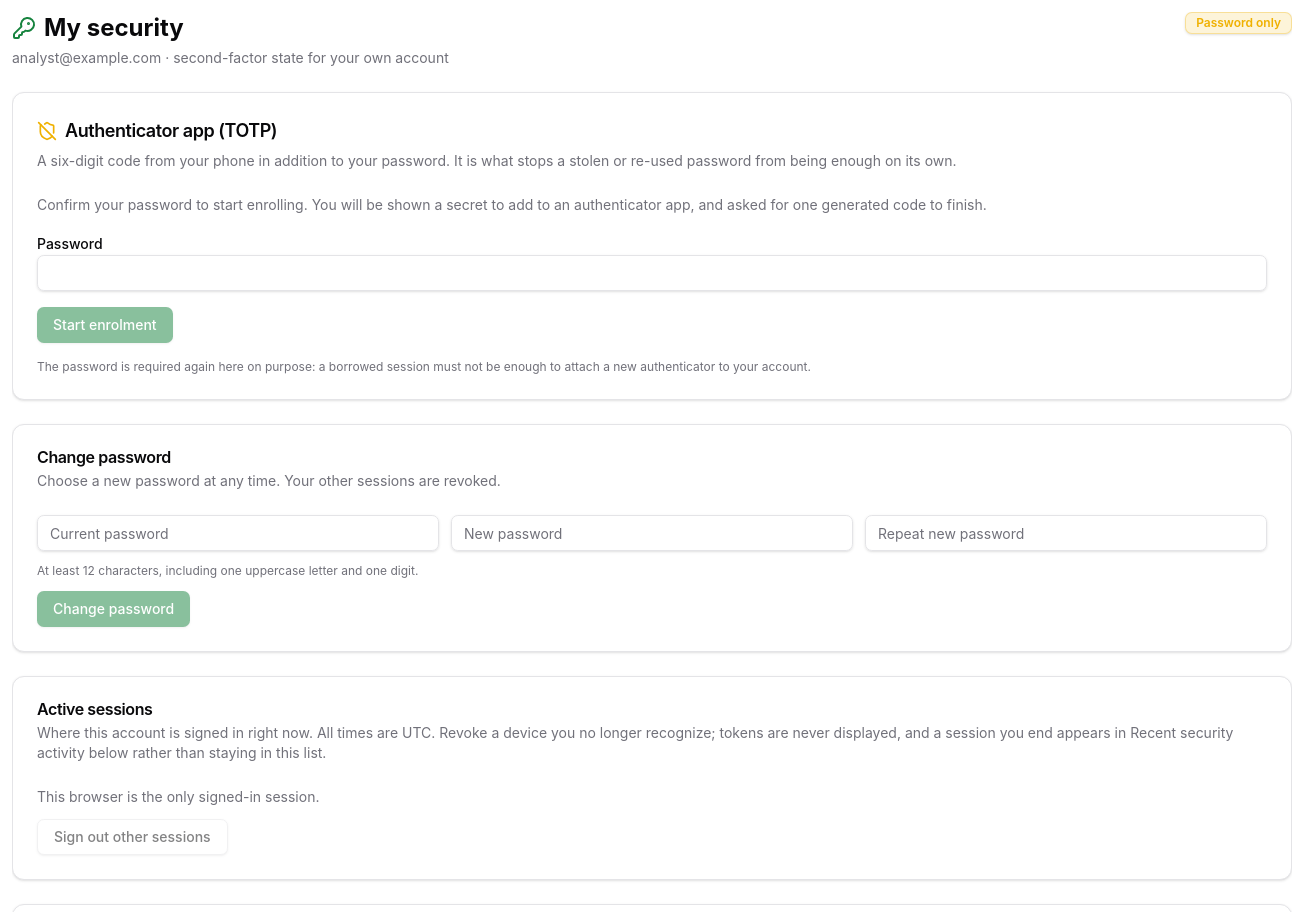
Test: SecurityPage › shows the account as password-only and starts enrolment after the password
expect the text "Password only" is shown: met, box left=1185, top=12, right=1291, bottom=34
expect the button "Start enrolment" is disabled: met, box left=37, top=307, right=173, bottom=343
Type "Password123!" into the password field labelled "Password". click: point(652, 273)
box: left=37, top=255, right=1267, bottom=291
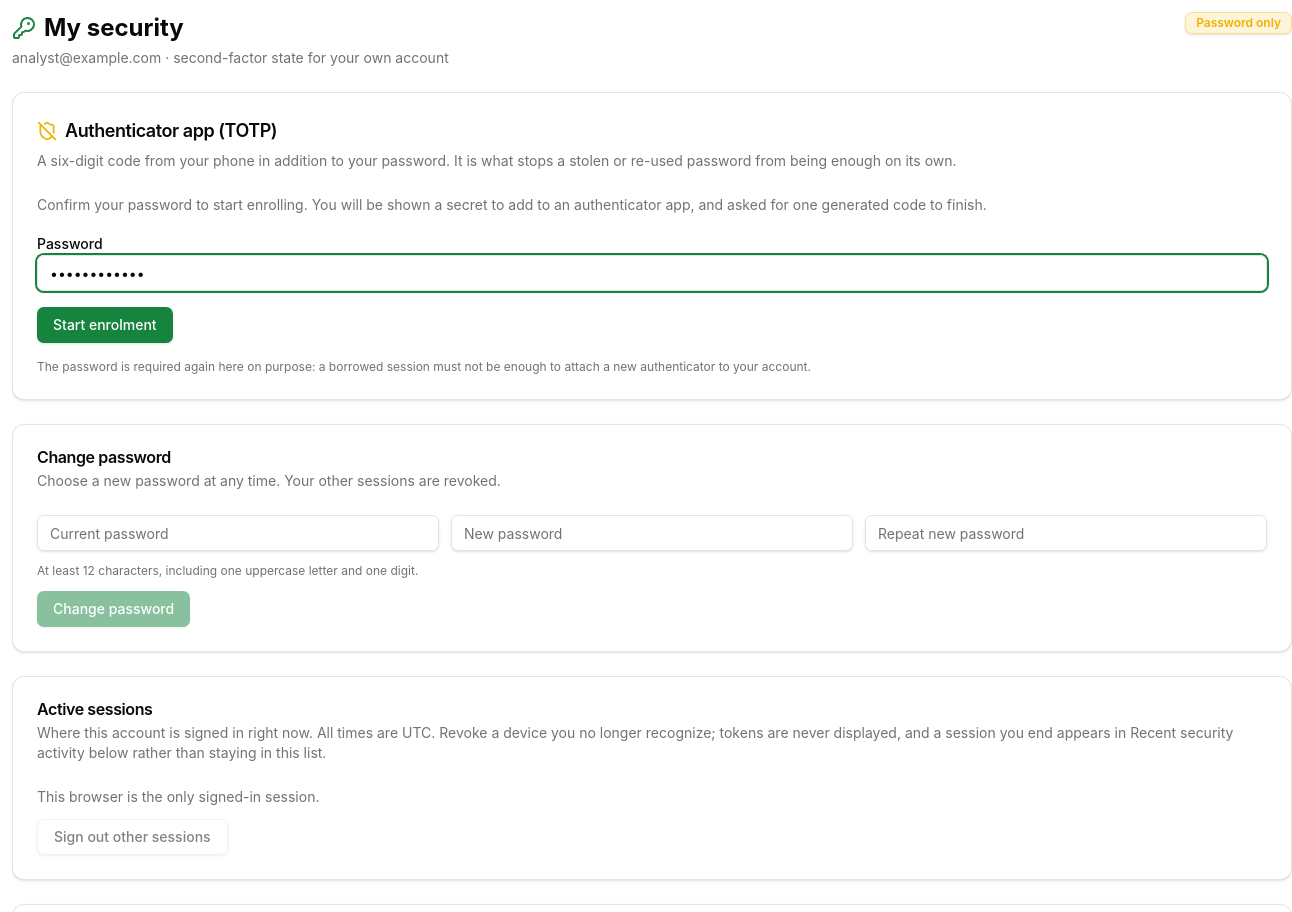
Click the button "Start enrolment". click: point(105, 325)
box: left=37, top=307, right=173, bottom=343
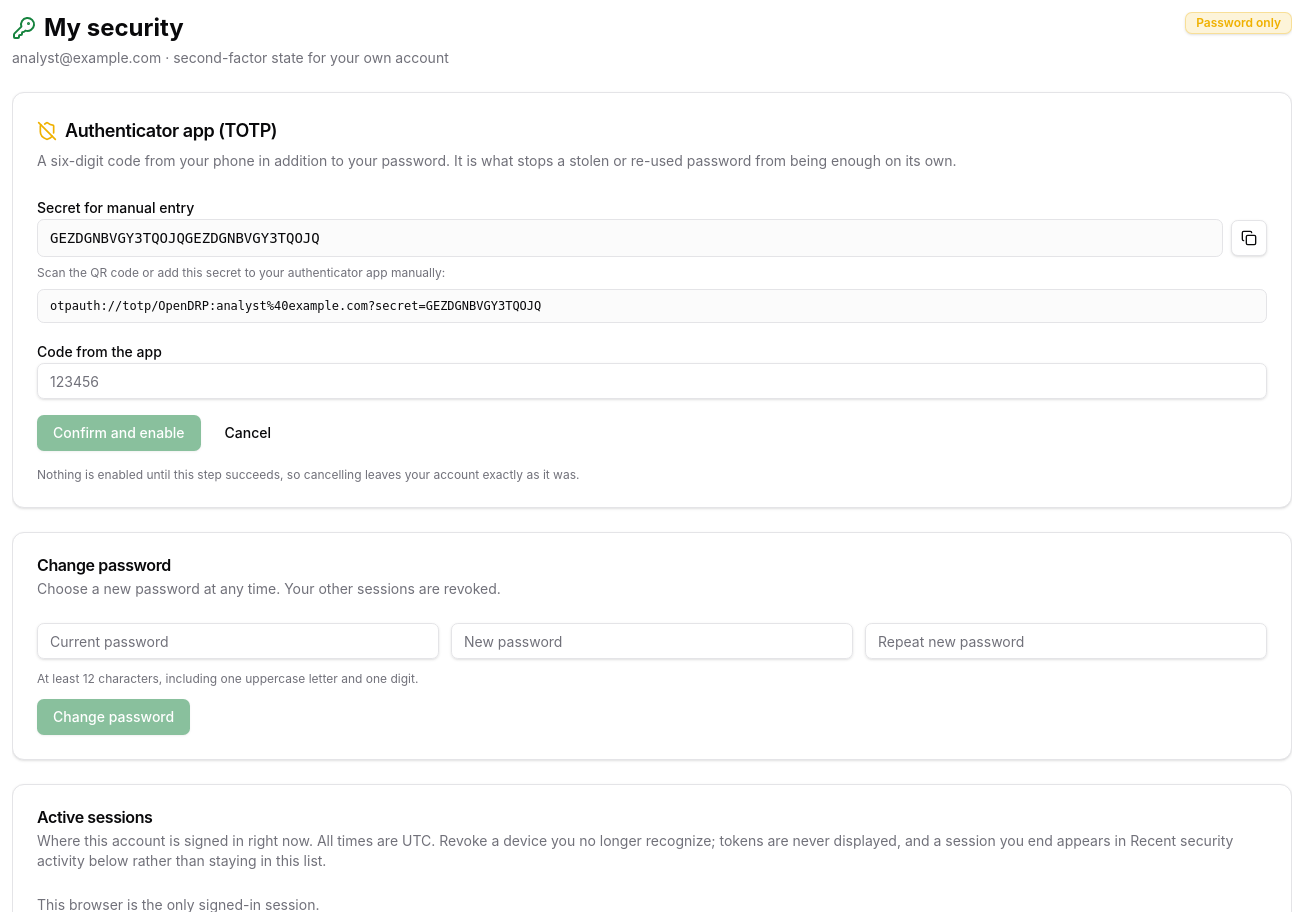
expect the text "GEZDGNBVGY3TQOJQGEZDGNBVGY3TQOJQ" is shown: met, box left=37, top=219, right=1223, bottom=257
